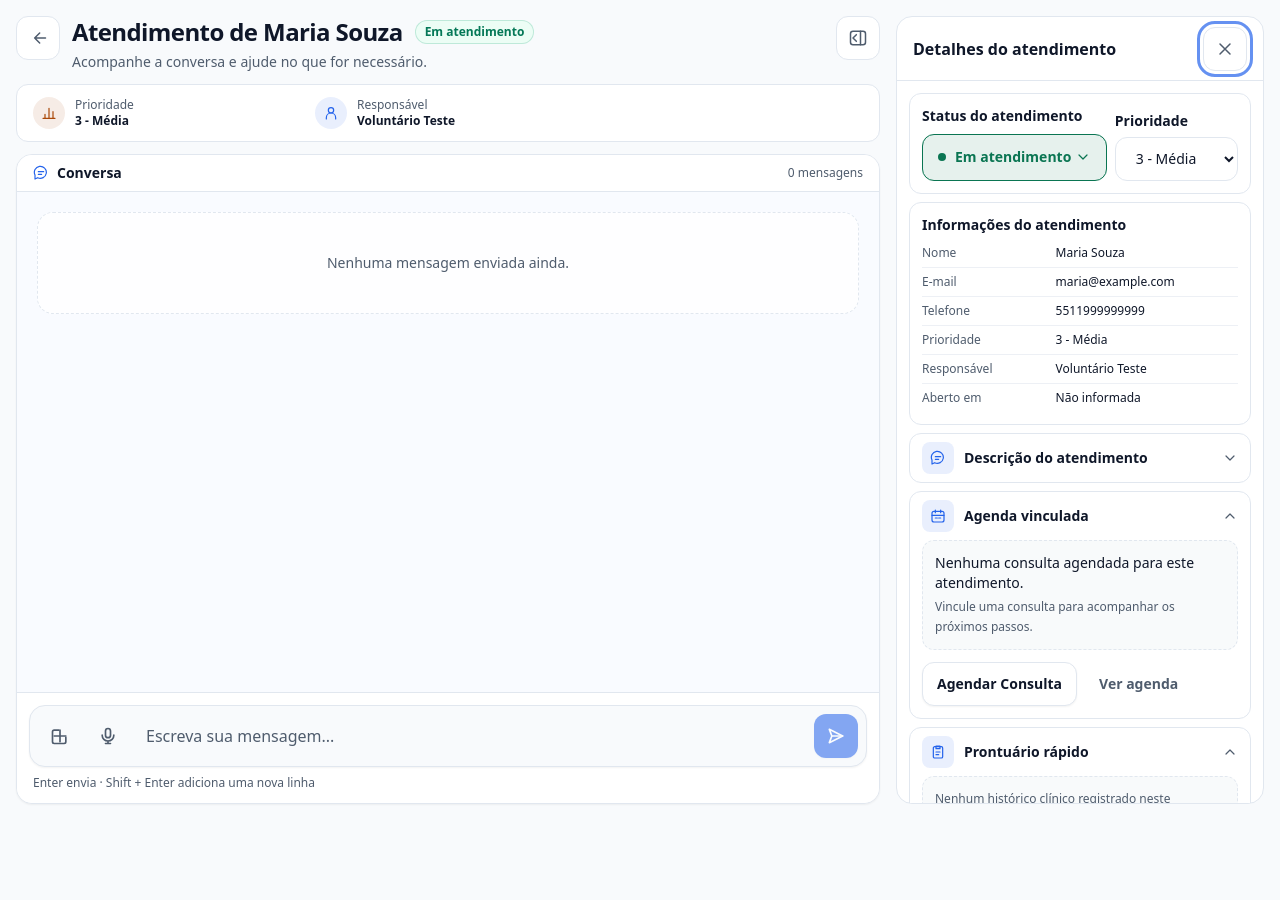
Test: DetalheAtendimento - Deduplicação de Mensagens › salva status e prioridade somente após confirmação e bloqueia o chat encerrado
The width and height of the screenshot is (1280, 900).
Select "Encerrado" in the dropdown labelled "Status do atendimento" at (1014, 157), box 922,134 -> 1107,181
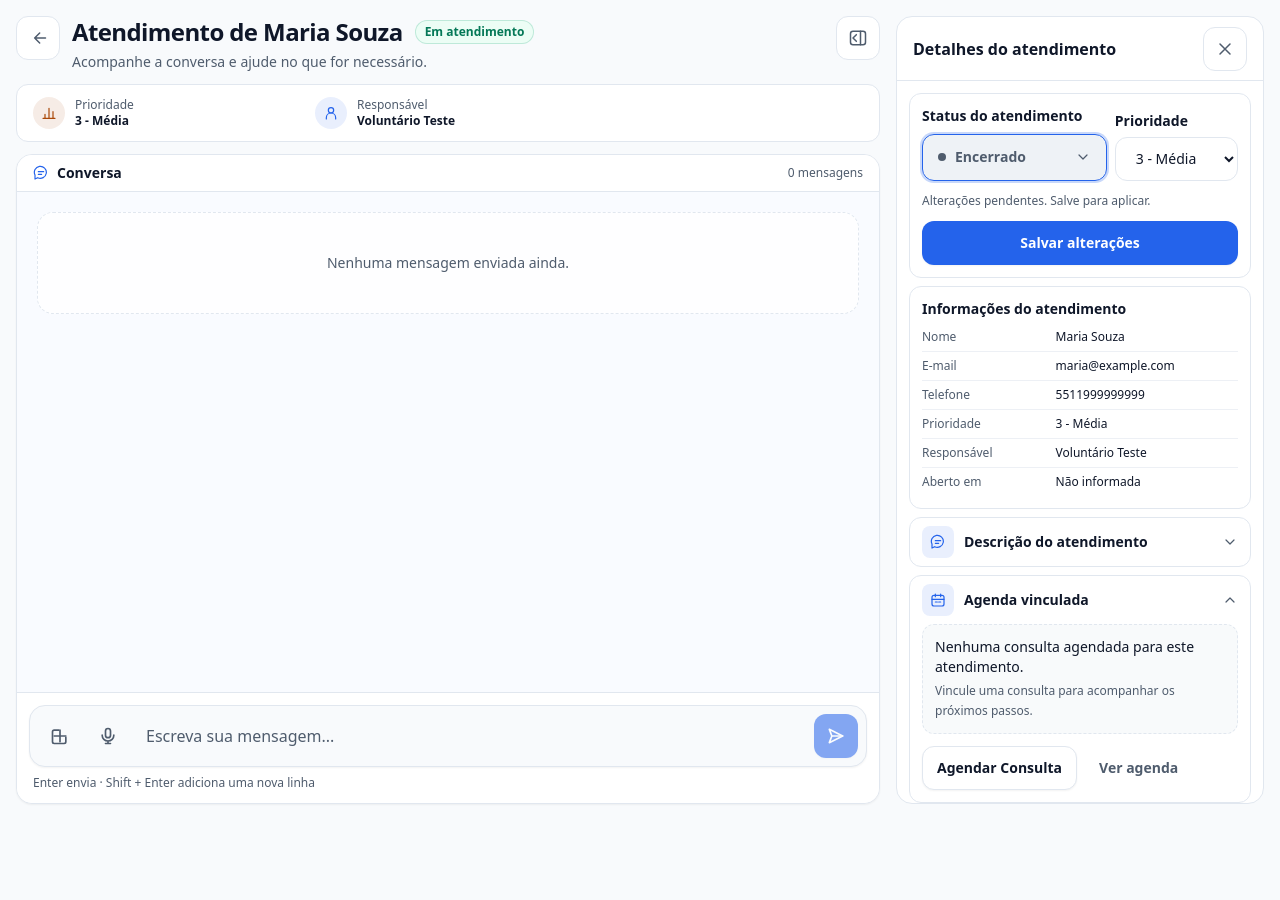
Select "2 - Alta" in the dropdown labelled "Prioridade" at (1176, 159), box 1115,137 -> 1238,181
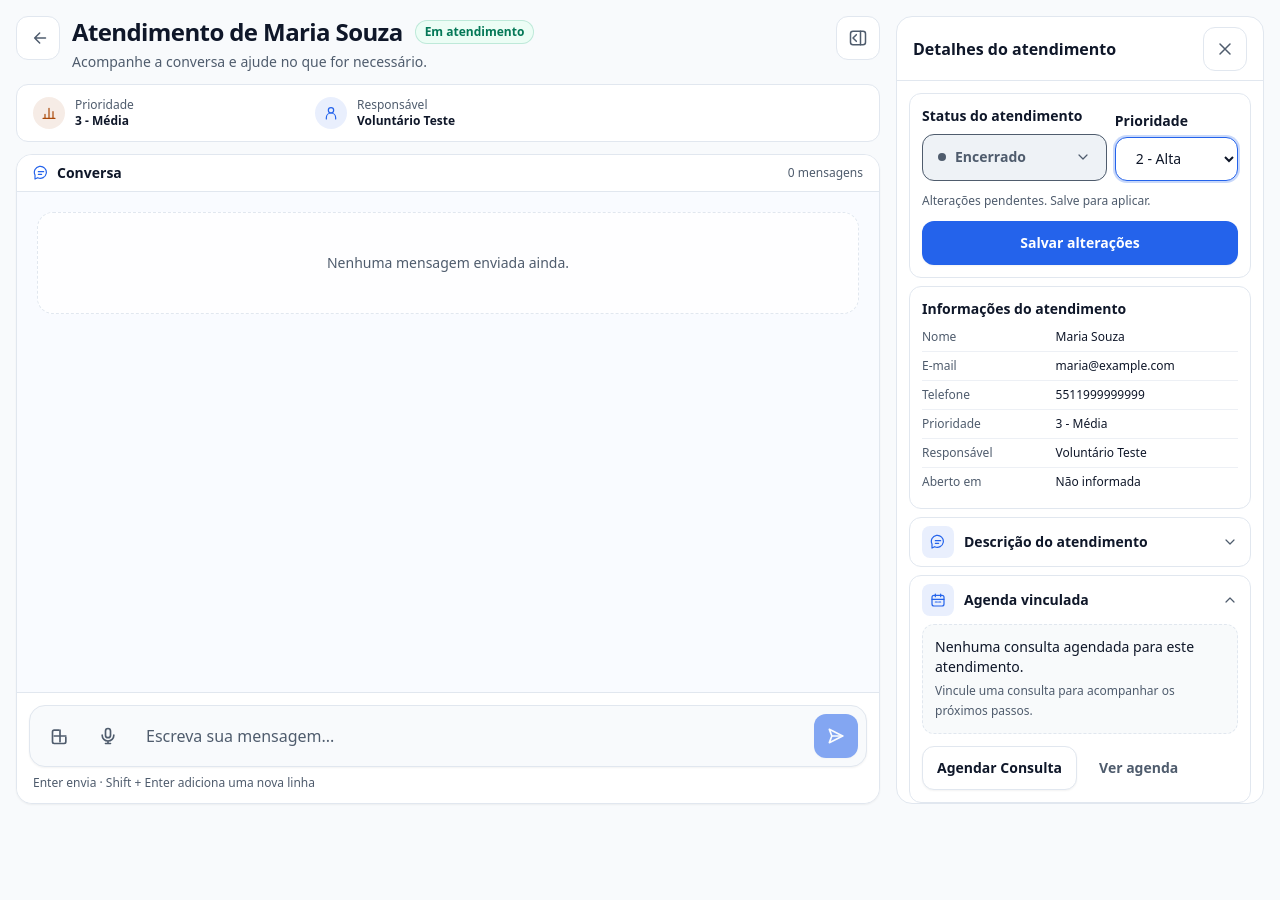
Click the button "Salvar alterações" at (1080, 243), box 922,221 -> 1238,265
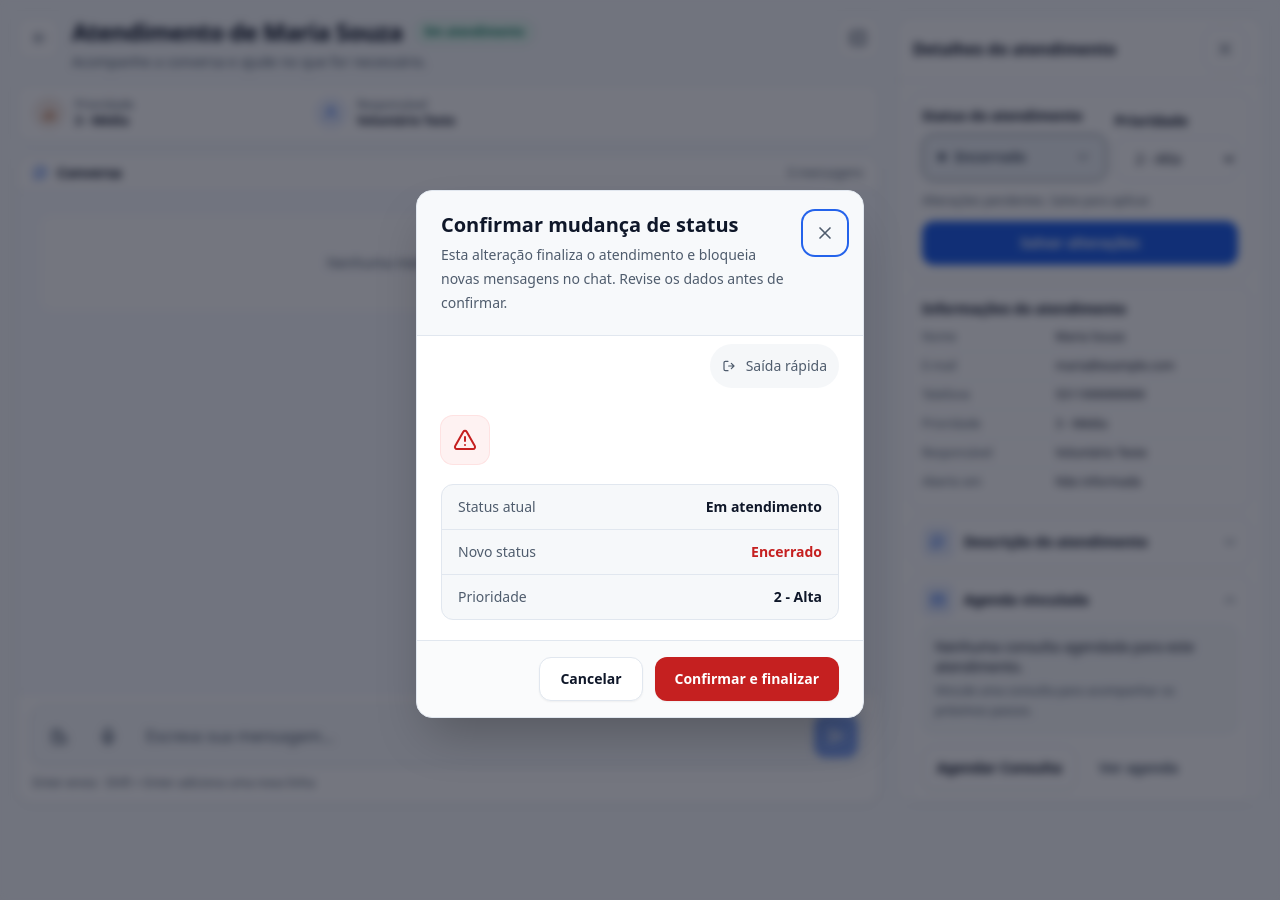
Expected: the text "Em atendimento" is shown, 706,497 -> 822,517
Expected: the text "Encerrado" is shown, 751,542 -> 822,562
Click the button "Confirmar e finalizar" at (747, 679), box 654,657 -> 839,701
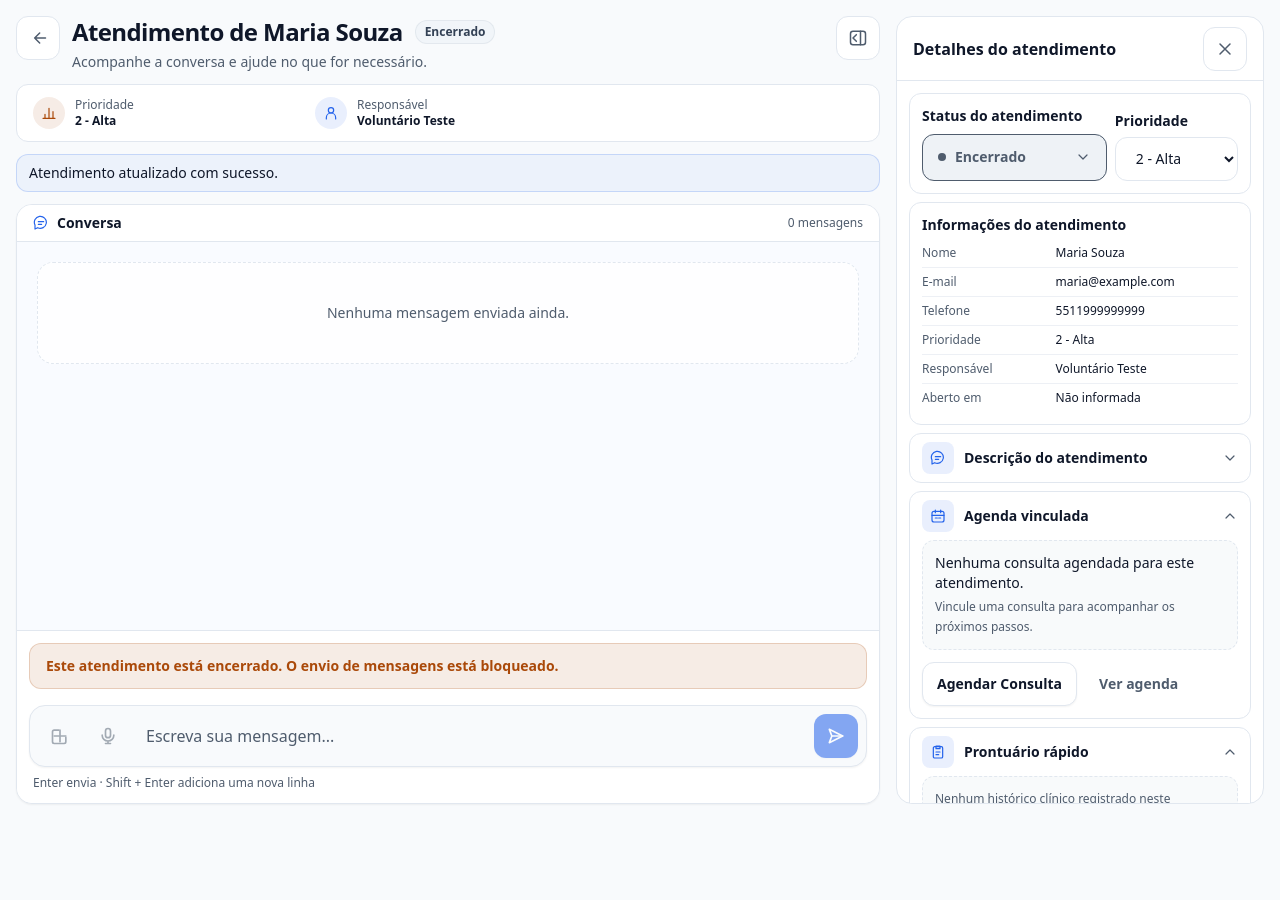
Expected: the text box named "Nova mensagem" is disabled, 134,714 -> 810,758
Expected: the button named "Enviar foto" is disabled, 38,714 -> 82,758
